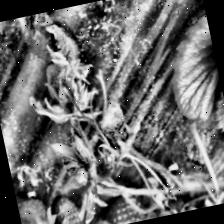Gray Mold: (22, 54, 102, 130), (88, 93, 148, 166)
